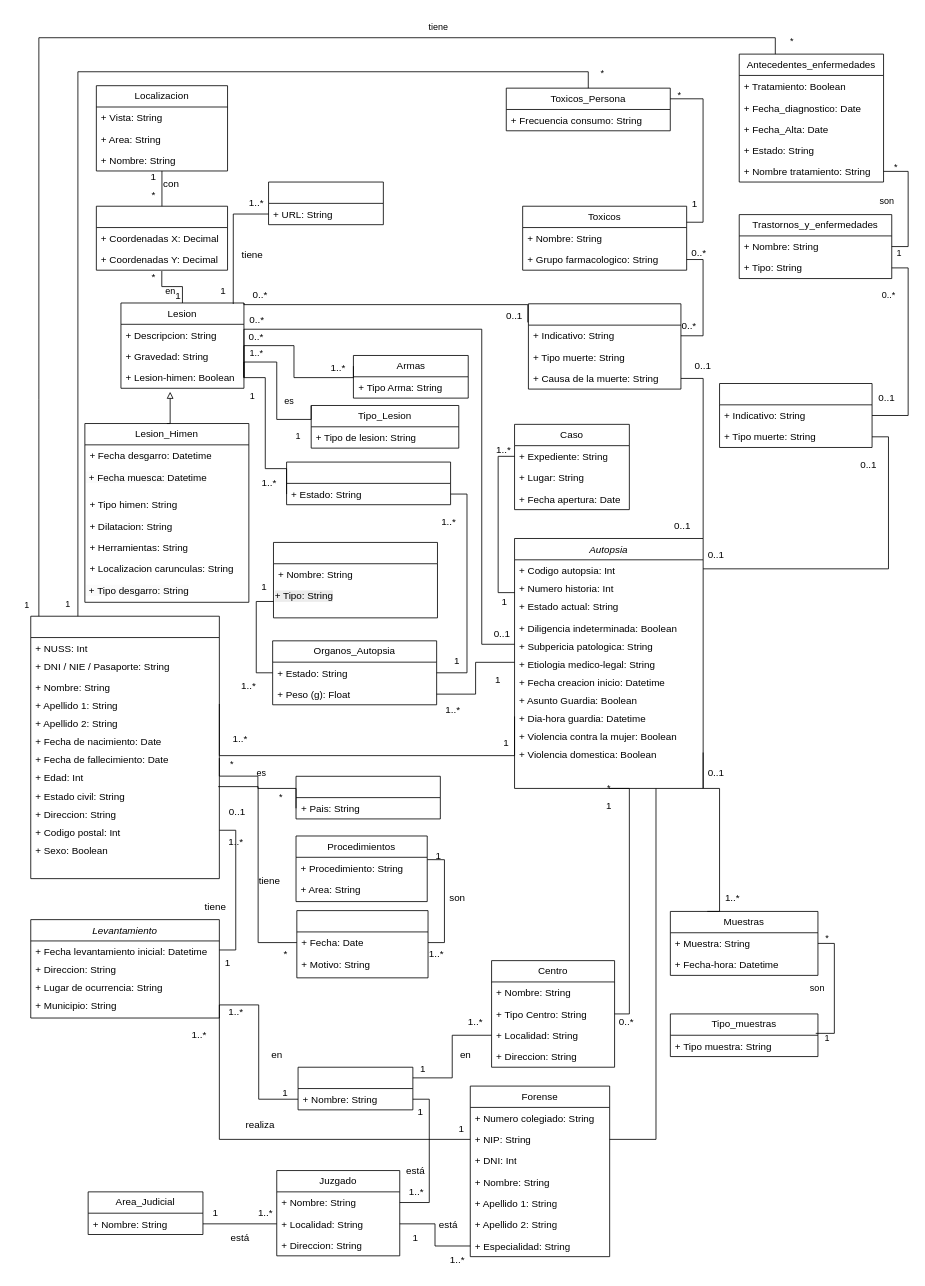
Some shapes in this 925 by 1286 pixel diagram are drawn without their labels. Each missing label, with the box of its shape:
Causa muerte natural: (719, 383, 872, 447)
Causa muerte violenta: (528, 303, 681, 389)
Historial_Cirugia: (296, 910, 428, 978)
Imagen: (268, 181, 383, 225)
Lesion_Localizacion: (96, 205, 228, 270)
Nacionalidad: (295, 775, 440, 819)
Organos_Lesion: (286, 461, 451, 505)
Organos_y_huesos: (273, 542, 437, 618)
Persona: (30, 615, 219, 879)
Provincia: (297, 1066, 413, 1110)
